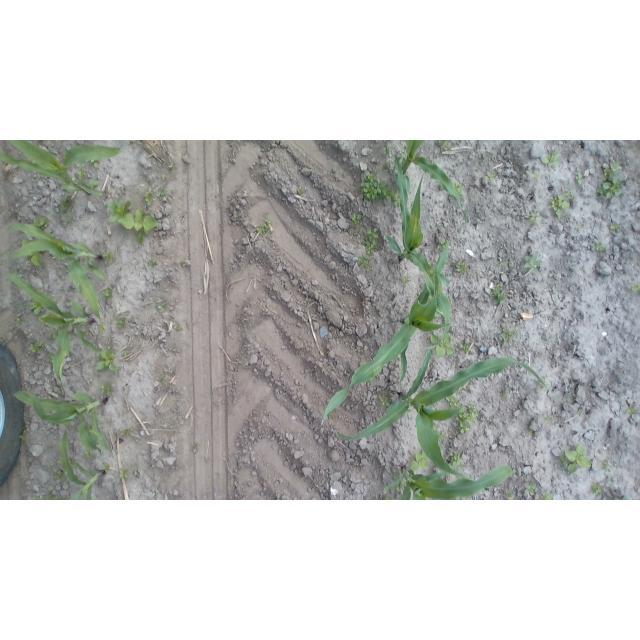Maize: (337, 350, 548, 478), (321, 223, 451, 425), (386, 154, 453, 350), (3, 271, 101, 394), (9, 224, 104, 323), (1, 140, 122, 196), (392, 141, 468, 228), (14, 390, 112, 457), (384, 460, 517, 501), (60, 428, 105, 500)
Weeds: (107, 198, 159, 245), (361, 170, 400, 206), (560, 446, 592, 473), (96, 344, 120, 373), (548, 190, 572, 218), (430, 333, 454, 358), (22, 238, 43, 266), (597, 178, 622, 199), (455, 408, 475, 434), (361, 228, 379, 255), (524, 252, 543, 274), (602, 160, 622, 180), (411, 450, 430, 471), (491, 283, 505, 305), (541, 150, 559, 167), (28, 300, 44, 317), (501, 326, 518, 342), (449, 451, 463, 470), (256, 218, 272, 234), (59, 195, 74, 212), (445, 393, 462, 407), (33, 217, 50, 230), (590, 481, 605, 495), (358, 255, 372, 270), (28, 341, 45, 353), (432, 425, 446, 439), (528, 211, 541, 226), (350, 213, 363, 228), (103, 250, 116, 264), (524, 481, 536, 495), (590, 242, 606, 252), (456, 261, 469, 273), (101, 382, 113, 395), (453, 182, 464, 196), (145, 187, 153, 206), (116, 316, 128, 328), (103, 288, 114, 301), (438, 141, 451, 152), (156, 187, 169, 198), (54, 470, 66, 481), (468, 404, 479, 416), (148, 258, 159, 270), (627, 283, 640, 293), (119, 468, 130, 479), (158, 372, 168, 384), (87, 329, 101, 337), (67, 457, 77, 468), (83, 449, 93, 460), (460, 342, 471, 352), (379, 397, 390, 407), (381, 145, 392, 155), (396, 480, 405, 492), (78, 167, 87, 179), (541, 492, 554, 500), (87, 180, 100, 188), (627, 405, 637, 415), (576, 175, 585, 186), (64, 213, 72, 225), (90, 158, 99, 168), (49, 329, 57, 340), (506, 491, 515, 500), (121, 428, 131, 436), (601, 460, 609, 470), (437, 240, 445, 250), (530, 171, 538, 181), (155, 302, 166, 309), (103, 462, 110, 472), (99, 323, 106, 333), (609, 224, 619, 231), (487, 171, 494, 181), (614, 496, 630, 500), (537, 379, 545, 387), (402, 276, 409, 285), (517, 170, 524, 179), (392, 474, 400, 481), (327, 411, 335, 418), (174, 325, 183, 331), (498, 260, 507, 266), (545, 415, 552, 422), (297, 189, 304, 196), (123, 350, 129, 358), (503, 390, 509, 398), (46, 493, 53, 499), (383, 163, 390, 169), (576, 226, 584, 231), (398, 150, 406, 155), (383, 497, 395, 500), (578, 409, 583, 416), (405, 409, 412, 414), (234, 214, 242, 218), (16, 318, 21, 323), (529, 430, 534, 435), (168, 164, 173, 169), (182, 261, 186, 267), (19, 435, 23, 438), (572, 394, 576, 397)
